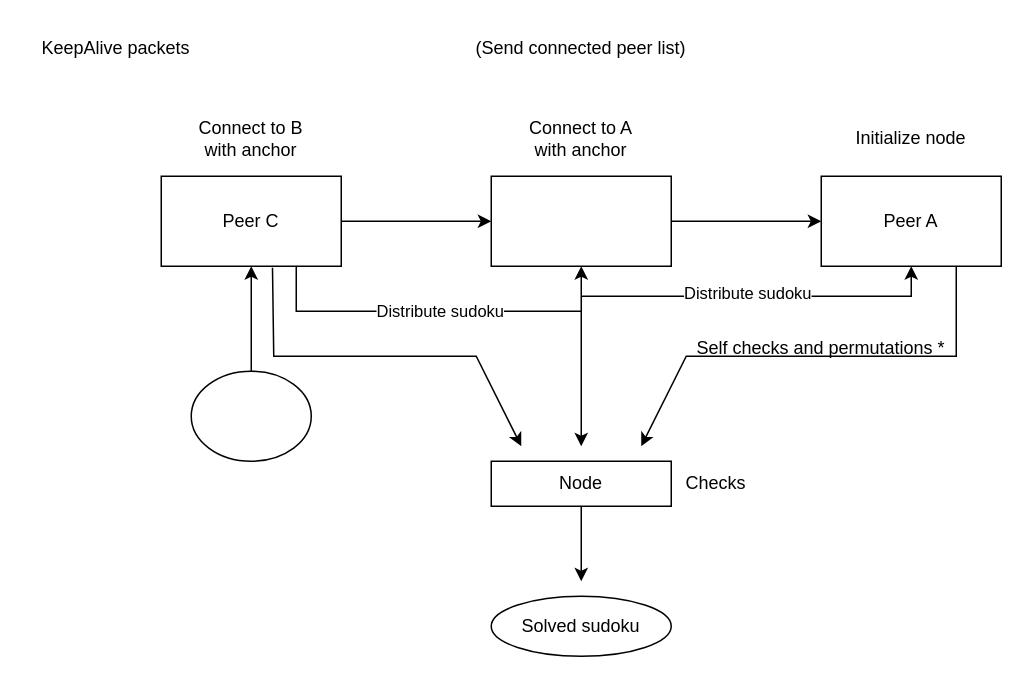
Image size: 1028x683. Some labels were removed from this diagram. The shapes that lost their labels are listed below. From the top down, each one's box as (x1, y1, x2, y2) in pixels, then its label:
(490, 175, 671, 266): Peer B
(190, 370, 311, 461): Receives sudoku
